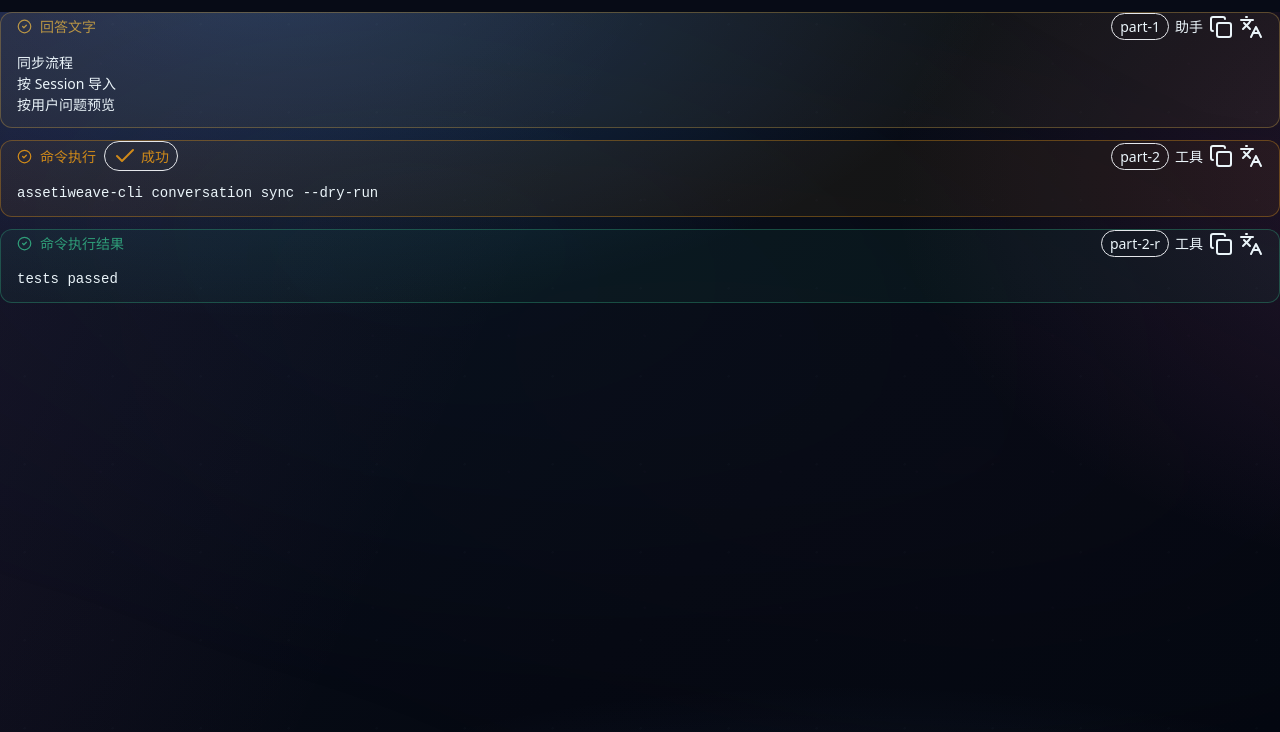
Scenario: MarkdownContent › copies the raw text from a content card
What coordinates should you click on to do the following:
click the button named "复制命令执行"
I would click on:
 (1221, 156)
Its box is [1209,144,1233,168].
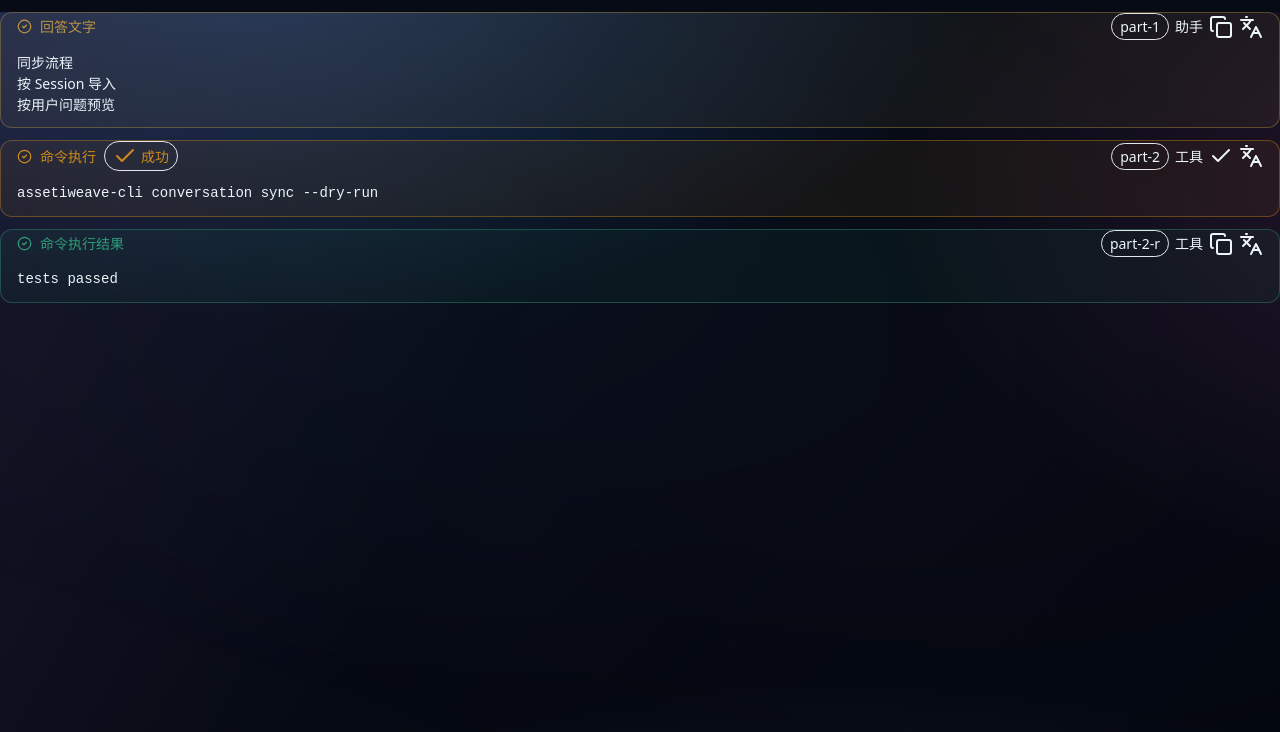
Check: the button named "已复制" is shown, box [1209,144,1233,168]
